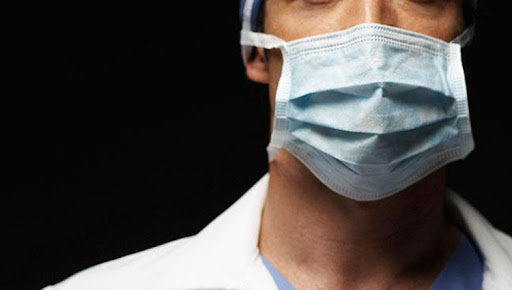barbijo: (233, 20, 478, 201)
